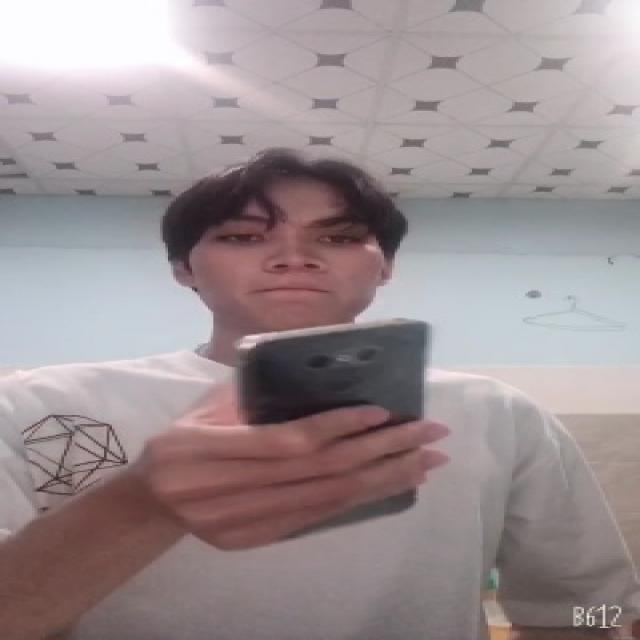Phone: (234, 314, 433, 532)
